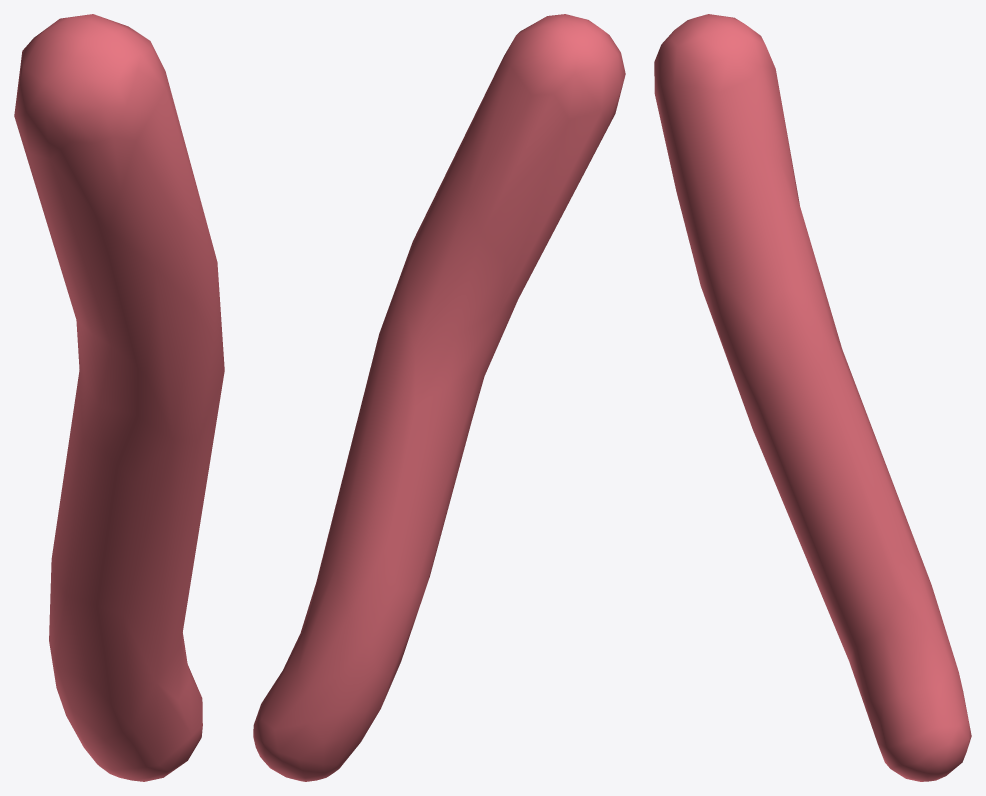
File: fma76548_fj3081.glb
3 renders of one model, left to right at view 1: azimuth 30°, elevation 25°; view 2: azimuth 150°, elevation 25°; view 3: azimuth 270°, elevation 25°, orthographic. The views are drawn at different scales.
Parts seen in each view (by area): view 1: FMA76548_FJ3081; view 2: FMA76548_FJ3081; view 3: FMA76548_FJ3081.
Part boxes in pixels (left/top/right/bottom): FMA76548_FJ3081: left=14, top=14, right=224, bottom=781; FMA76548_FJ3081: left=253, top=14, right=625, bottom=781; FMA76548_FJ3081: left=654, top=14, right=971, bottom=781.
Bounding box in the file's own units: 0.011 × 0.0302 × 0.0126.
